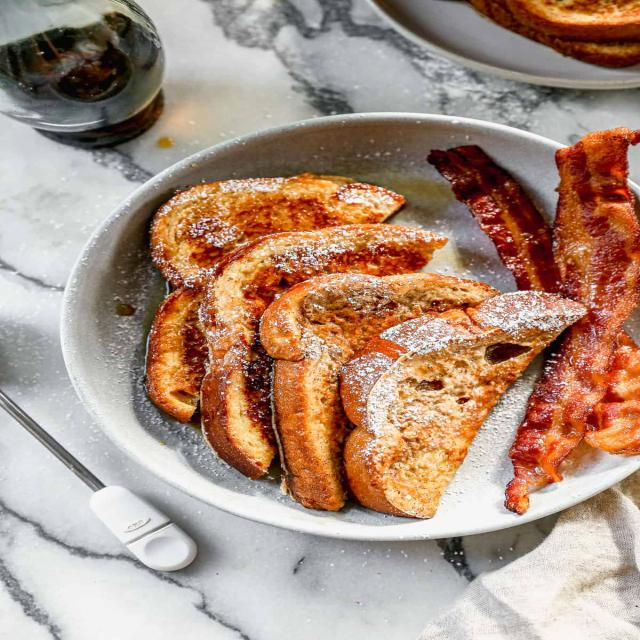Bacon: (506, 128, 639, 512), (428, 145, 561, 292)
Bread: (199, 224, 448, 479), (261, 272, 499, 510), (341, 291, 585, 519), (150, 172, 405, 288)
